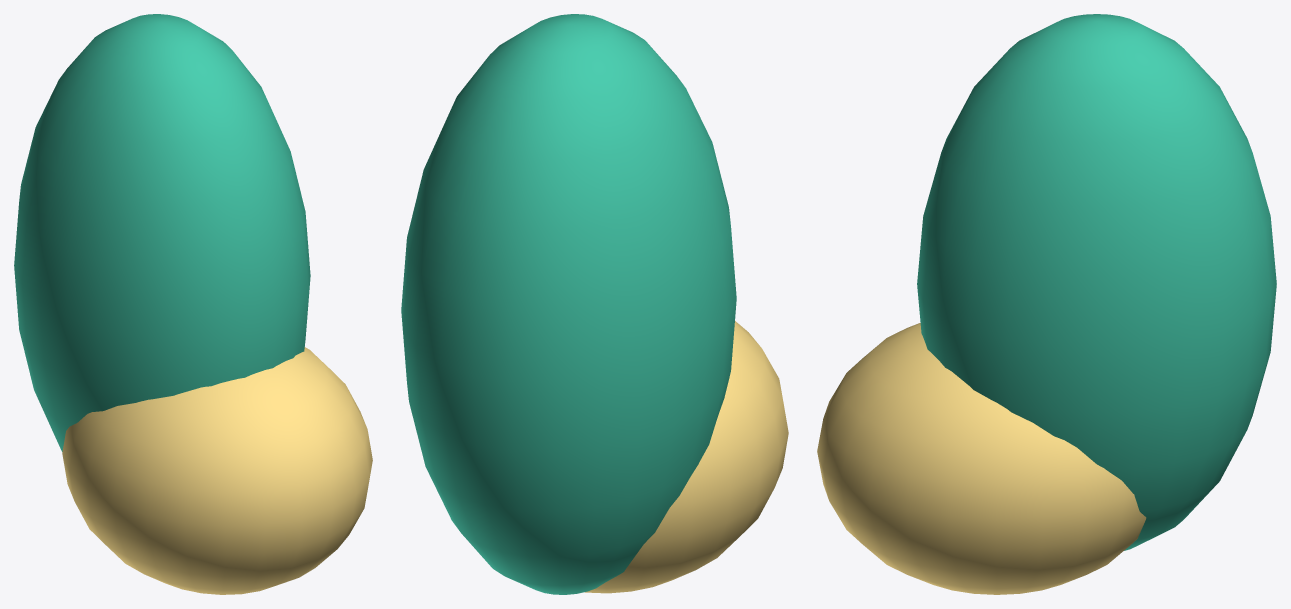
Rendered from dragon_arm_r.glb.
3 views of the same model, side by side, from view 1: azimuth 30°, elevation 25°; view 2: azimuth 150°, elevation 25°; view 3: azimuth 270°, elevation 25° (orthographic). The views are drawn at different scales.
Visible parts, largest first — view 1: dragon arm_r; view 2: dragon arm_r; view 3: dragon arm_r.
Part boxes in pixels (bbox=[...]): dragon arm_r: bbox=[14, 14, 372, 594]; dragon arm_r: bbox=[401, 14, 788, 594]; dragon arm_r: bbox=[817, 14, 1276, 594].
Bounding box in the file's own units: 0.32 × 0.61 × 0.46.
